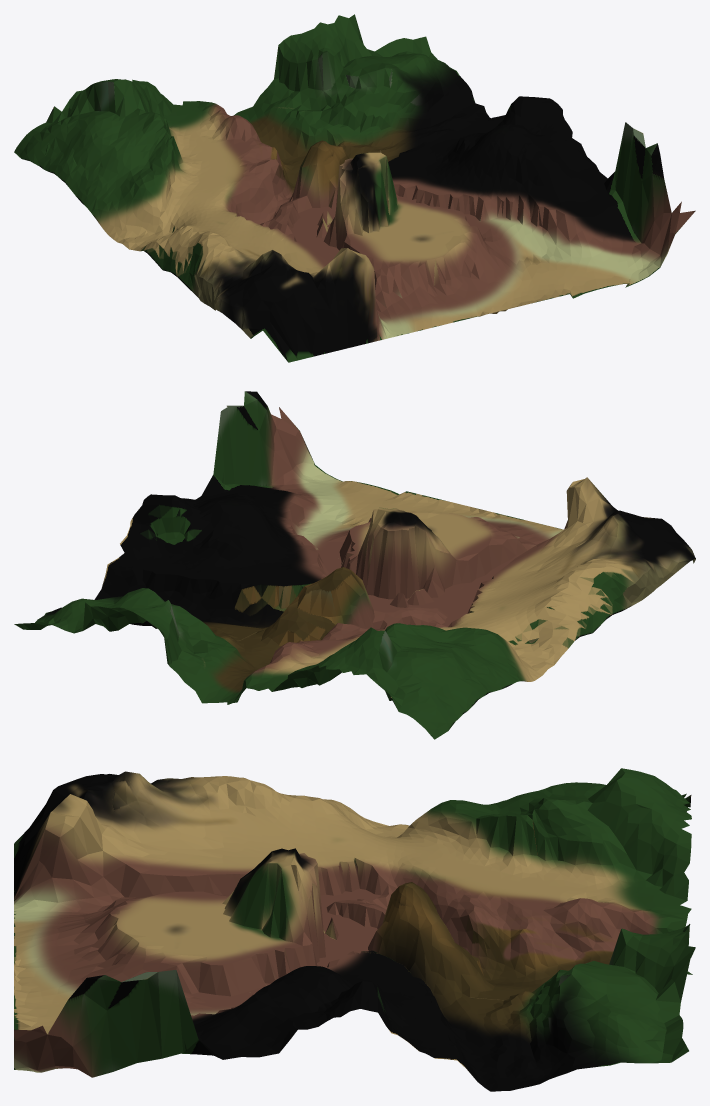
The model's file is TM14_Terrain.fbx.
3 views of the same model, one above another, from view 1: azimuth 30°, elevation 25°; view 2: azimuth 150°, elevation 25°; view 3: azimuth 270°, elevation 25° (orthographic). The views are drawn at different scales.
Parts seen in each view (by area): view 1: TM14.UpperMountain, TM14.ExitMine, TM14.EngineersWarehouse, TM14.MountainBehind, TM14.EngineersVillage, TM14.EngineersSea, TM14.RapidStream; view 2: TM14.ExitMine, TM14.EngineersWarehouse, TM14.UpperMountain, TM14.EngineersVillage, TM14.RapidStream, TM14.EngineersSea, TM14.MountainBehind; view 3: TM14.UpperMountain, TM14.EngineersWarehouse, TM14.RapidStream, TM14.ExitMine, TM14.EngineersVillage, TM14.MountainBehind, TM14.EngineersSea.
Part boxes in pixels (x1,y1,x2,y2): TM14.UpperMountain: [14, 79, 252, 251]; TM14.ExitMine: [388, 96, 660, 250]; TM14.EngineersWarehouse: [141, 217, 394, 362]; TM14.MountainBehind: [253, 14, 475, 146]; TM14.EngineersVillage: [301, 150, 494, 315]; TM14.EngineersSea: [386, 155, 695, 336]; TM14.RapidStream: [199, 101, 490, 230]; TM14.ExitMine: [95, 391, 348, 625]; TM14.EngineersWarehouse: [437, 477, 695, 648]; TM14.UpperMountain: [247, 608, 568, 739]; TM14.EngineersVillage: [329, 507, 544, 609]; TM14.RapidStream: [94, 567, 453, 704]; TM14.EngineersSea: [258, 393, 563, 541]; TM14.MountainBehind: [14, 588, 247, 690]; TM14.UpperMountain: [342, 768, 691, 919]; TM14.EngineersWarehouse: [14, 771, 365, 920]; TM14.RapidStream: [333, 882, 692, 1091]; TM14.ExitMine: [84, 950, 487, 1089]; TM14.EngineersVillage: [45, 848, 349, 999]; TM14.MountainBehind: [519, 924, 695, 1079]; TM14.EngineersSea: [14, 906, 129, 1077].
Size of the model in its own units: 32080 by 7729 by 33876.
1 material, 1 textured.
